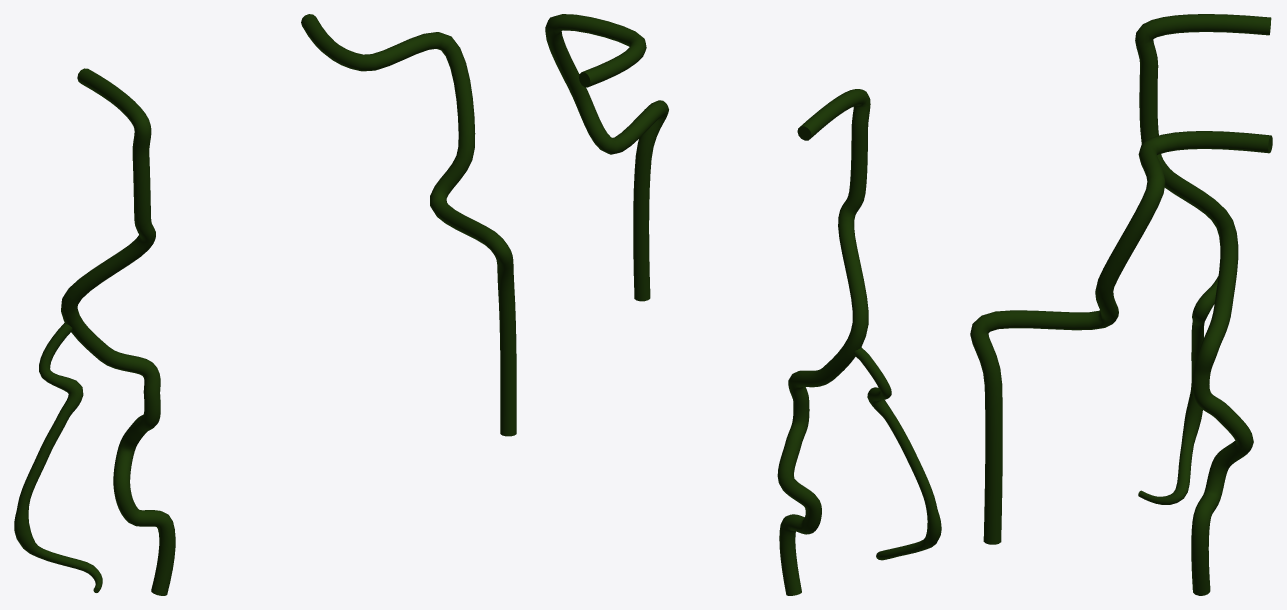
The model's file is Temple_VineClump_RightSideRandom.FBX.
3 renders of one model, left to right at view 1: azimuth 30°, elevation 25°; view 2: azimuth 150°, elevation 25°; view 3: azimuth 270°, elevation 25°, orthographic. The views are drawn at different scales.
Visible parts, largest first — view 1: Line051; view 2: Line051; view 3: Line051.
Part boxes in pixels (x1=…): Line051: x1=14, y1=14, x2=516, y2=595; Line051: x1=545, y1=14, x2=941, y2=595; Line051: x1=970, y1=14, x2=1272, y2=595.
Size of the model in its own units: 8.77 by 10.16 by 5.02.
